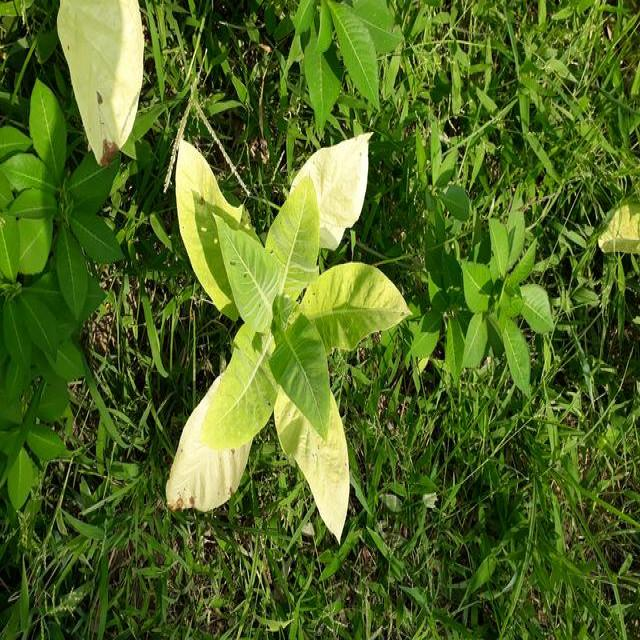crop: (174, 159, 380, 537)
